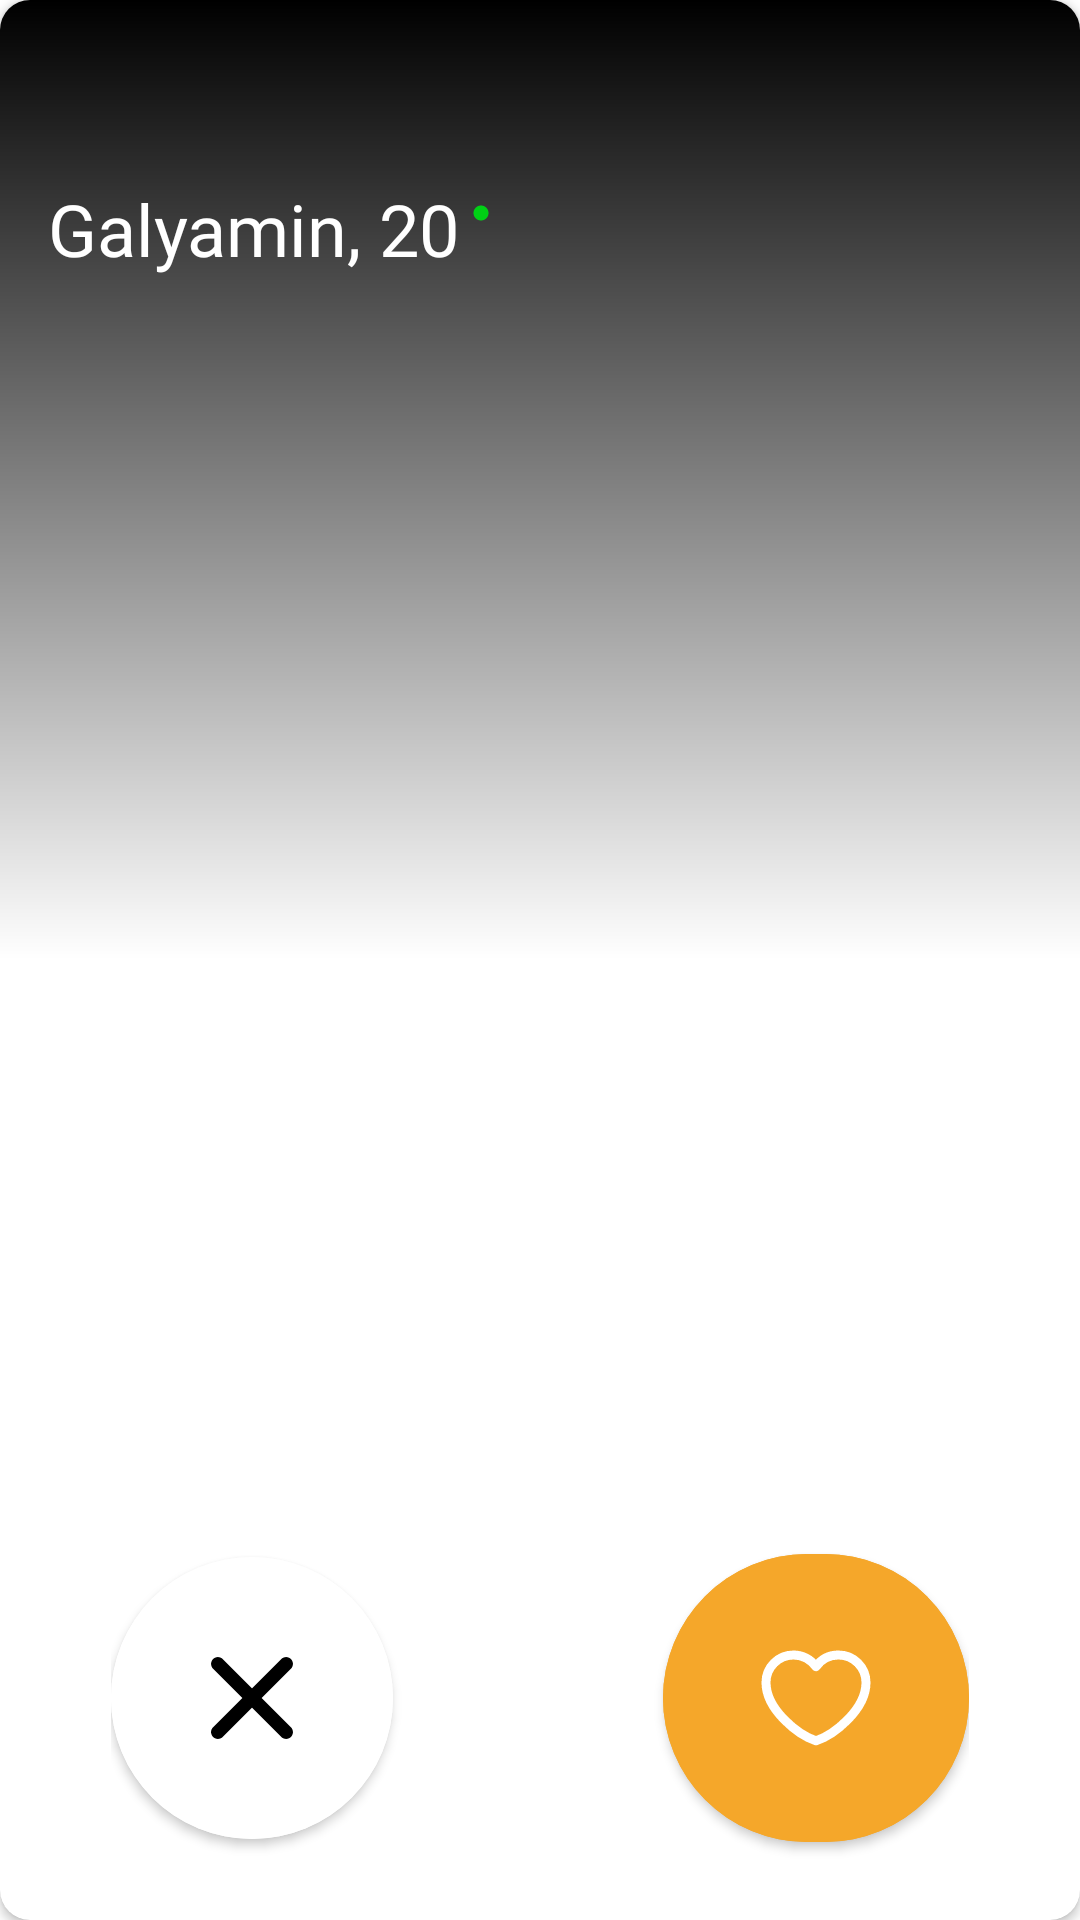

Point at icon controls on the screen. Image size 1080 x 1920, points as (x=x, y=y).
close: (x=248, y=1751)
